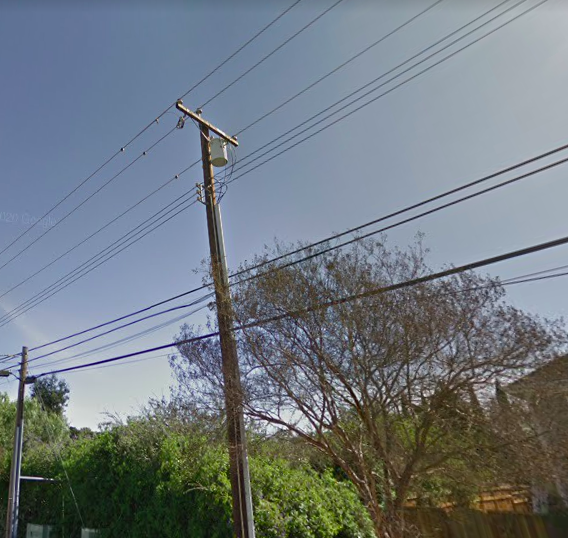utility_pole: (166, 90, 247, 178)
